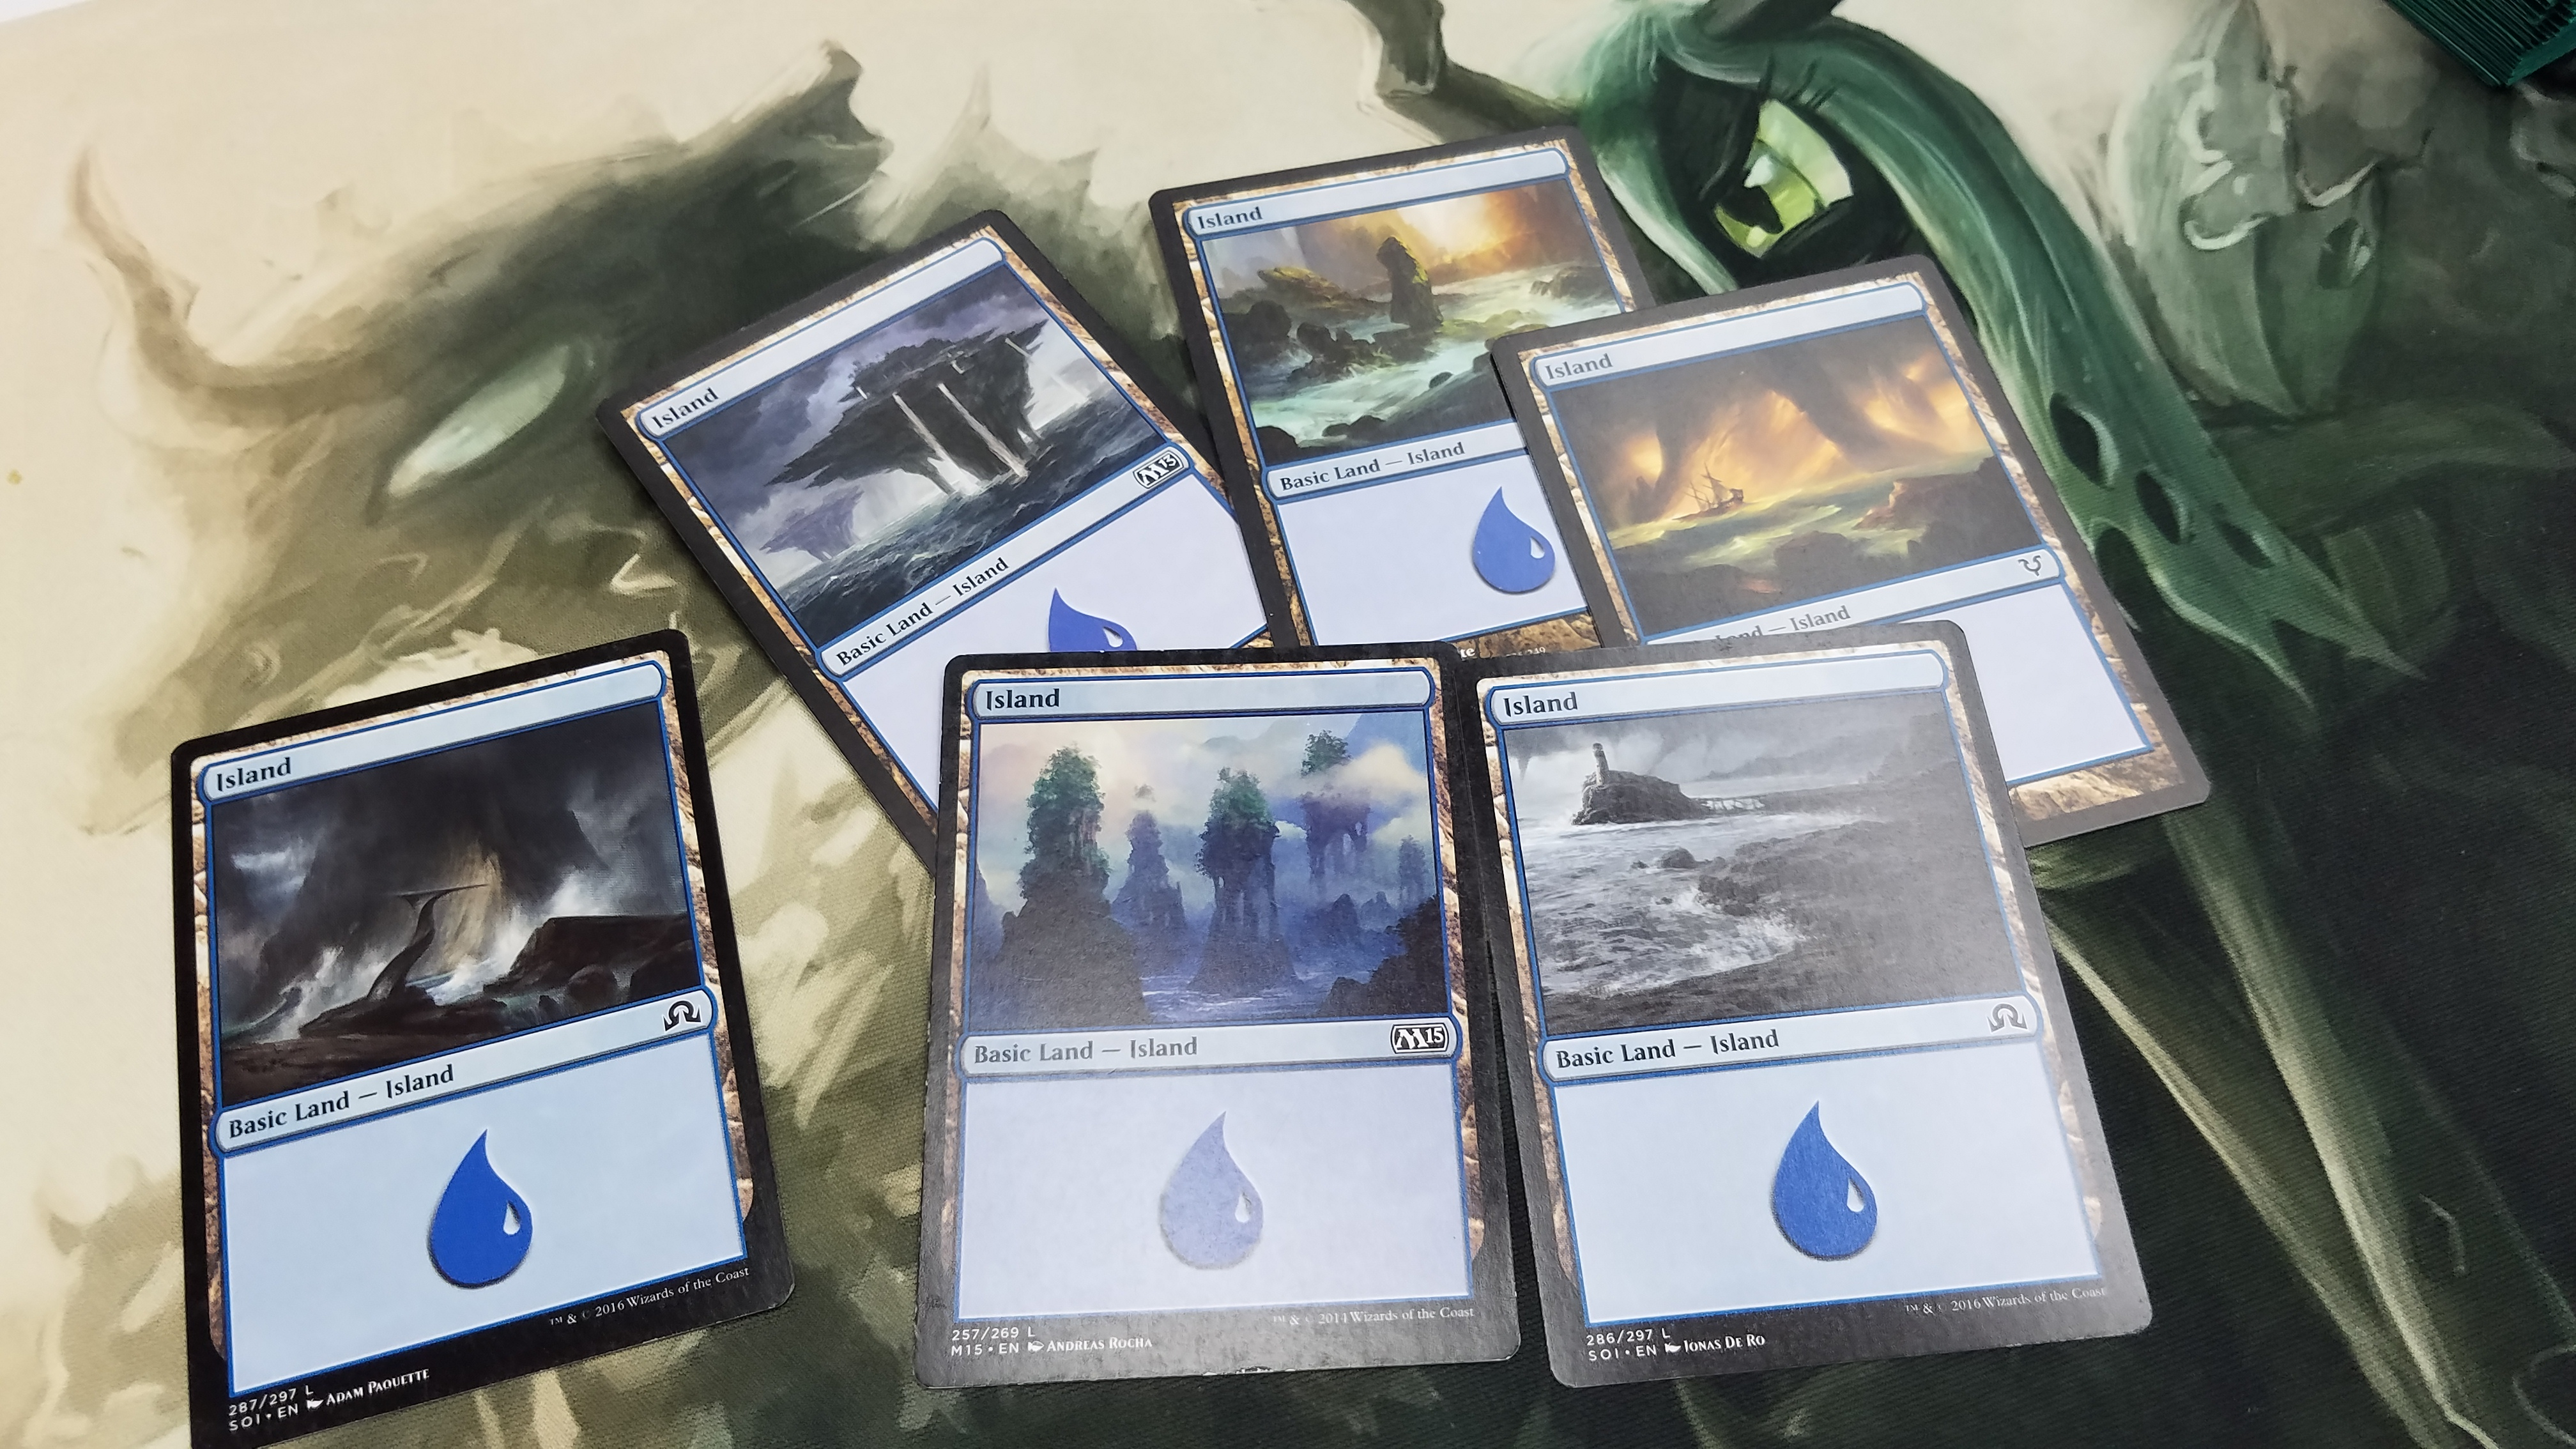Card: (1454, 625, 2169, 1403), (165, 628, 800, 1449), (593, 211, 1329, 888), (1497, 255, 2222, 893), (915, 639, 1523, 1389), (1168, 122, 1665, 685)
